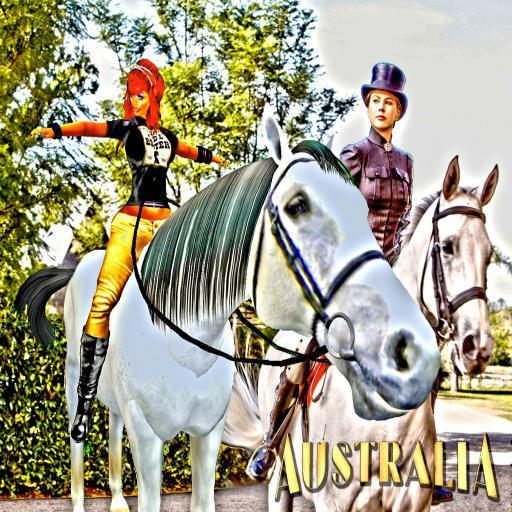horse: (14, 106, 441, 512), (220, 150, 500, 512)
